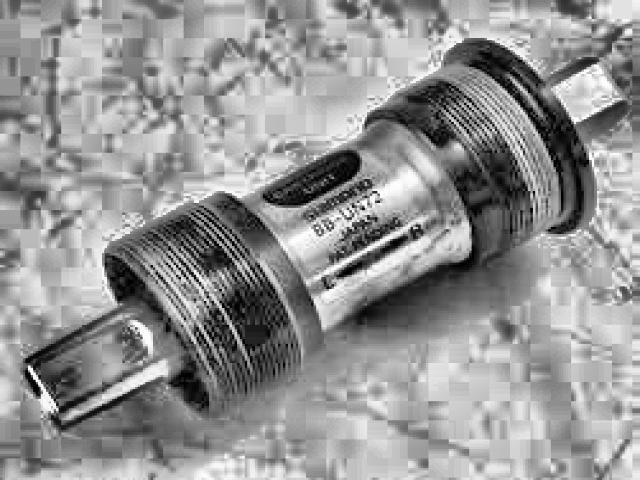bottom_bracket: (19, 36, 632, 433)
